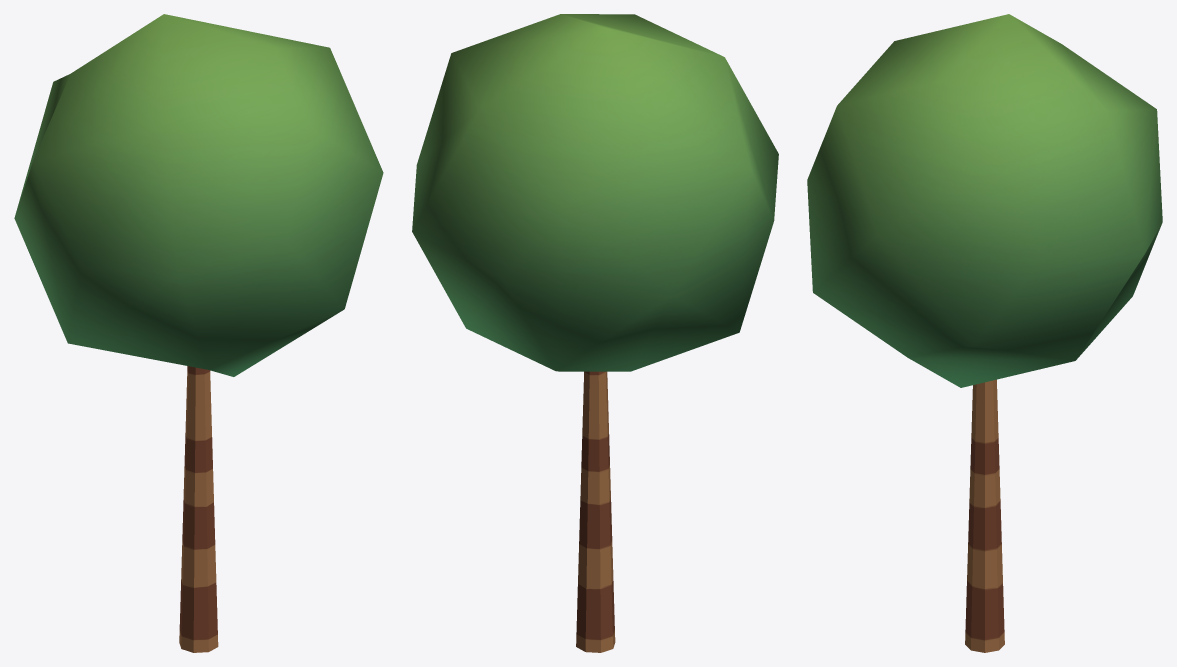
Rendered from Trees_RoundTree5.fbx.
3 renders of one model, left to right at view 1: azimuth 30°, elevation 25°; view 2: azimuth 150°, elevation 25°; view 3: azimuth 270°, elevation 25°, orthographic.
Visible parts, largest first — view 1: RoundTree5; view 2: RoundTree5; view 3: RoundTree5.
Boxes of the visible parts, bbox=[...] form: RoundTree5: bbox=[14, 14, 383, 652]; RoundTree5: bbox=[412, 14, 778, 652]; RoundTree5: bbox=[807, 14, 1162, 652].
Bounding box in the file's own units: 163 × 305 × 158.
Materials: 1 (1 with a texture image).
